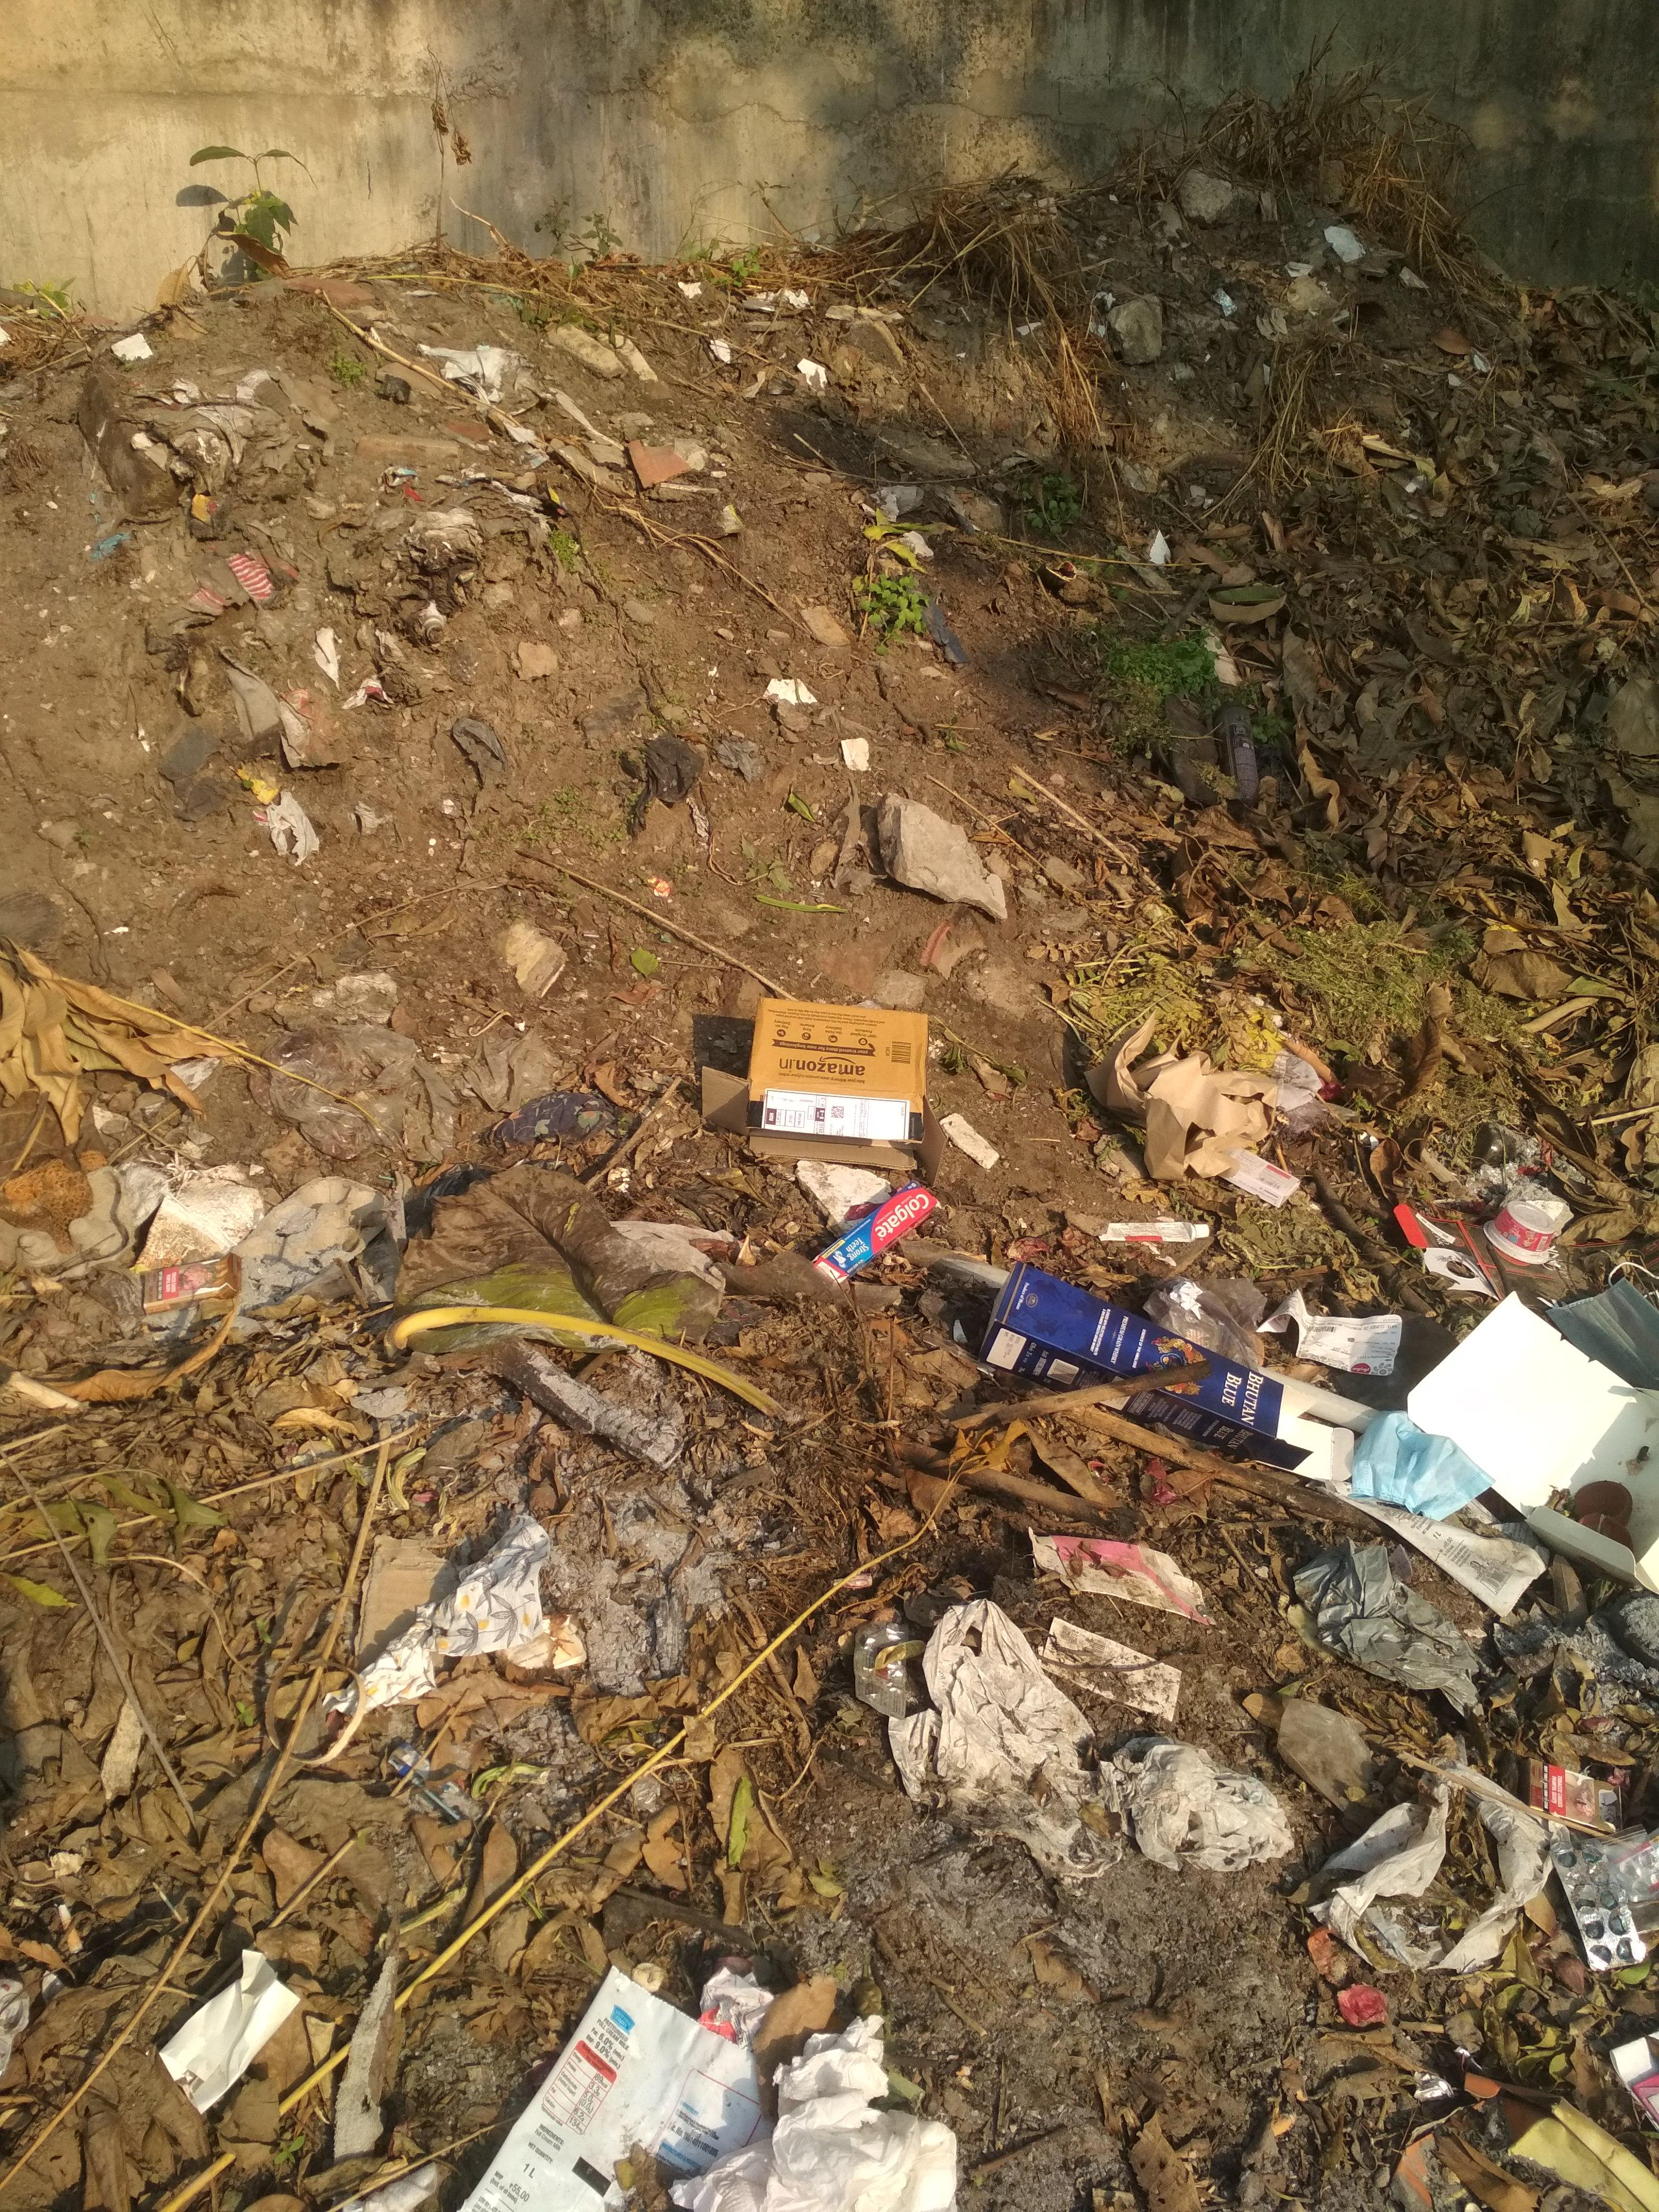trash: (143, 988, 1654, 2212)
